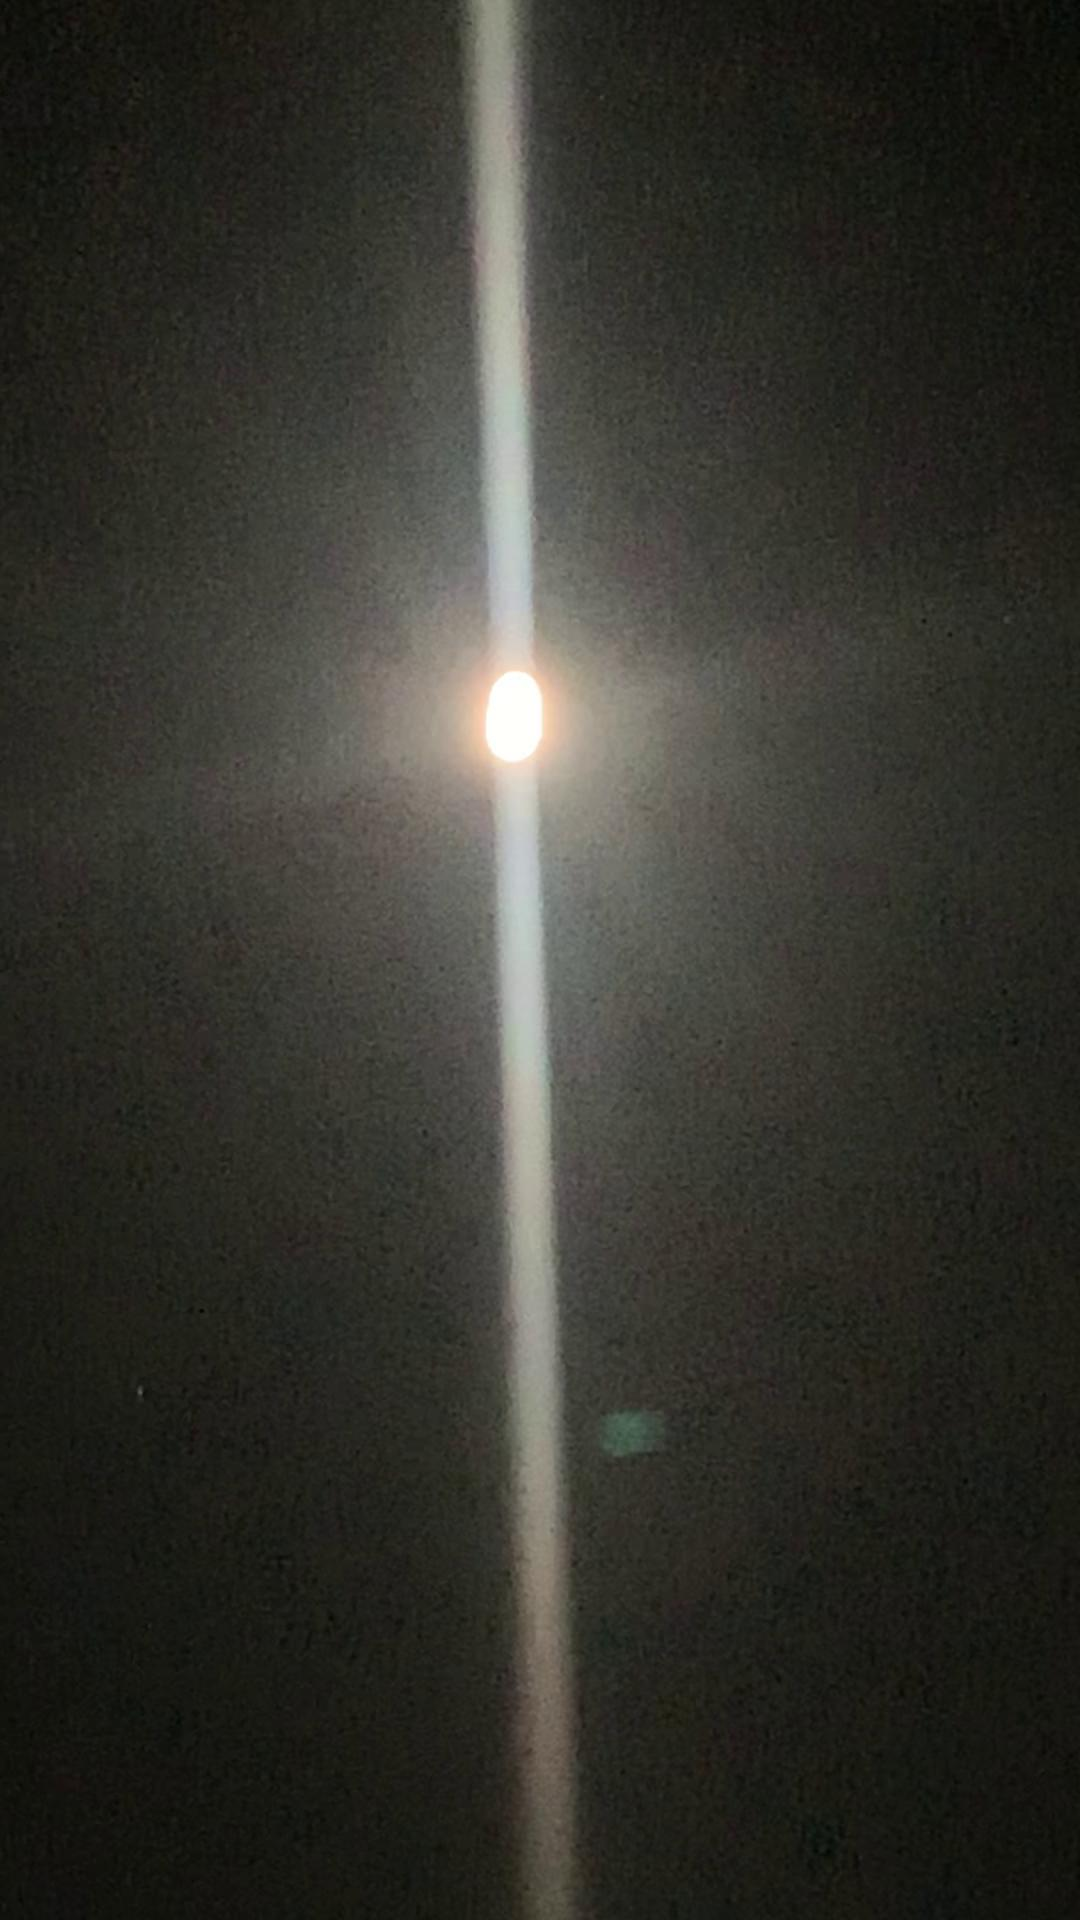moon: (459, 666, 588, 793)
